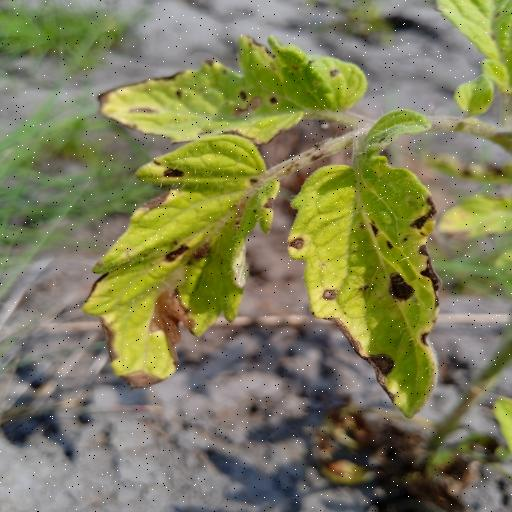Tomato_Brown_Spots: (76, 131, 285, 392), (284, 146, 446, 425), (97, 33, 370, 143)
